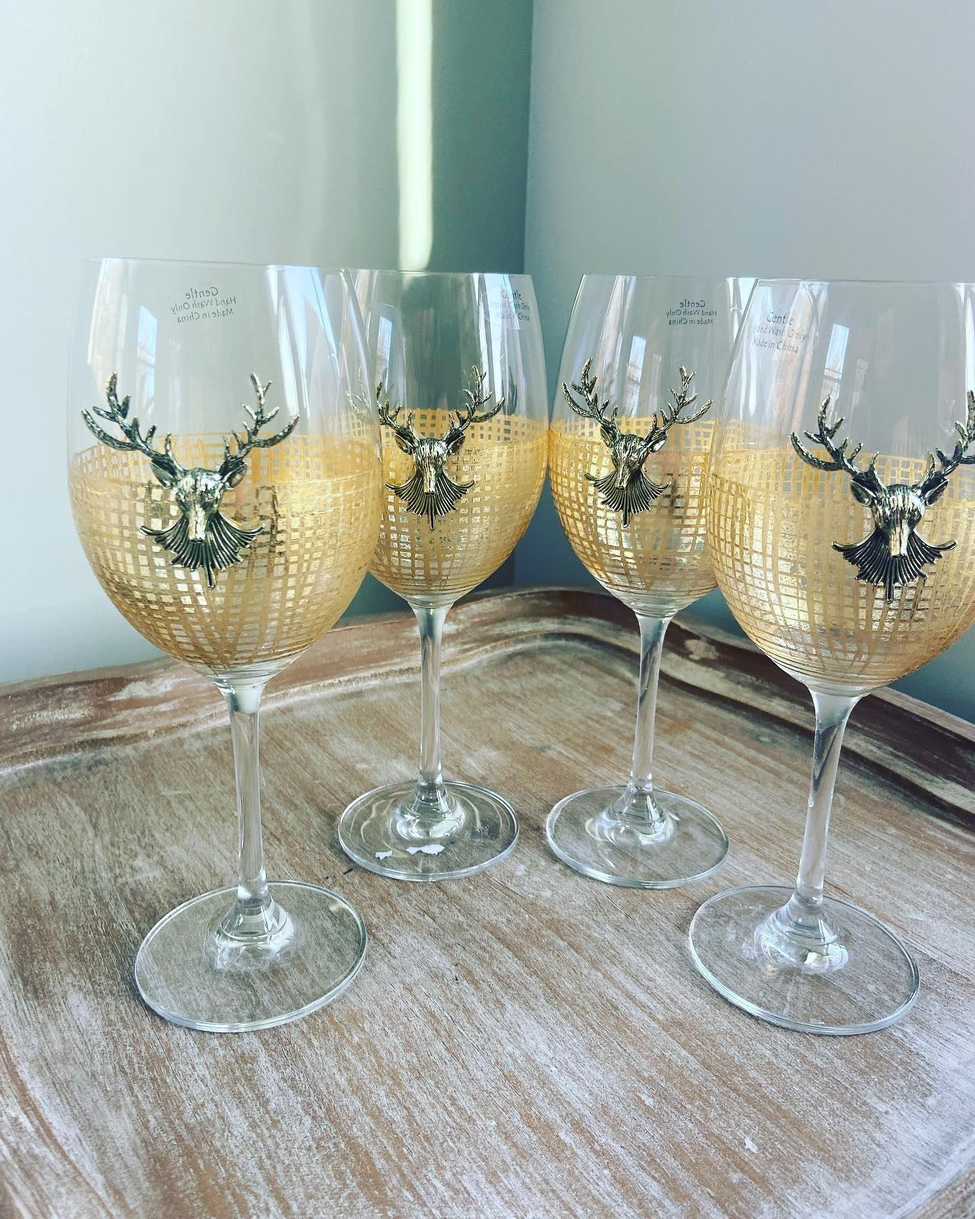glass-wine: (61, 251, 393, 1045), (687, 276, 975, 1049), (316, 264, 552, 893), (536, 267, 760, 893)
